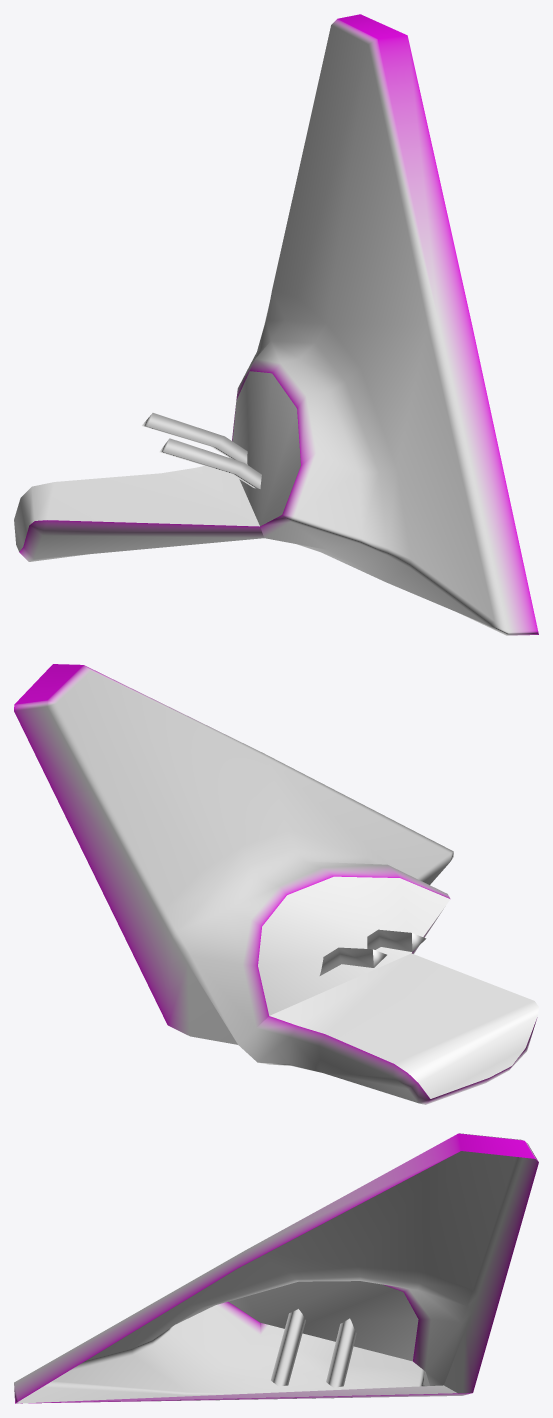
Rendered from Car_Nissan_SkylineGTRVspecR34_1999_MirrorBaseR_SetA.fbx.
3 views of the same model, one above another, from view 1: azimuth 30°, elevation 25°; view 2: azimuth 150°, elevation 25°; view 3: azimuth 270°, elevation 25° (orthographic). The views are drawn at different scales.
Parts seen in each view (by area): view 1: MirrorBaseR 5; view 2: MirrorBaseR 5; view 3: MirrorBaseR 5.
Boxes of the visible parts, x1,y1,x2,y2 form: MirrorBaseR 5: [14, 14, 538, 635]; MirrorBaseR 5: [14, 664, 538, 1104]; MirrorBaseR 5: [14, 1133, 538, 1403].
Size of the model in its own units: 0.1538 by 0.1314 by 0.1857.
